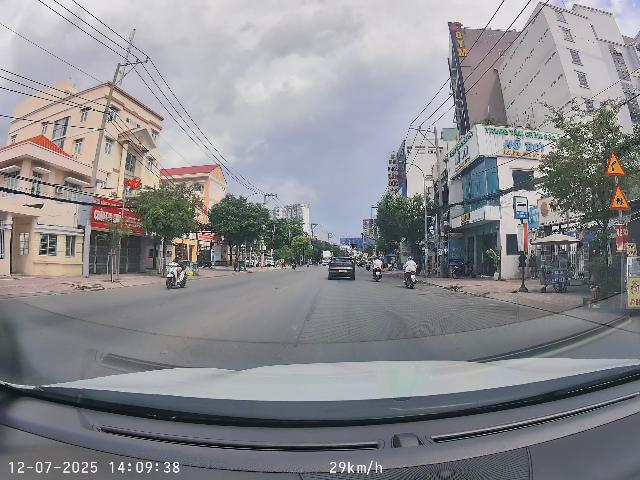201-cho-ngoat-nguy-hiem: (605, 150, 627, 177)
225-chu-y-tre-em: (610, 184, 631, 210)
